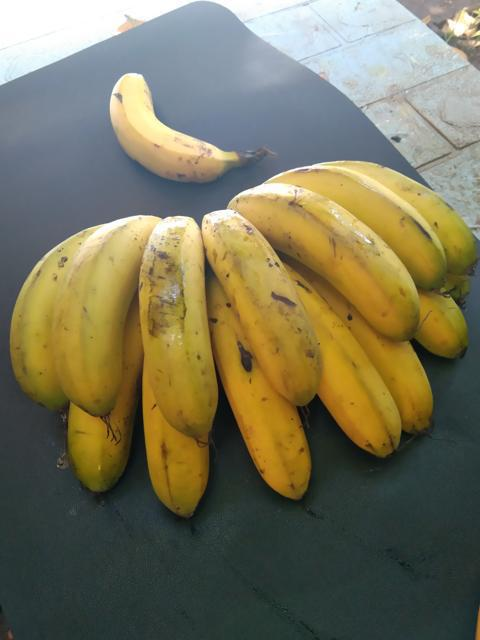ripe: (230, 171, 420, 331), (47, 187, 169, 420), (199, 189, 327, 400), (135, 195, 231, 435), (107, 74, 250, 185), (314, 305, 413, 462), (216, 336, 311, 494), (123, 379, 216, 530), (8, 226, 79, 396)
